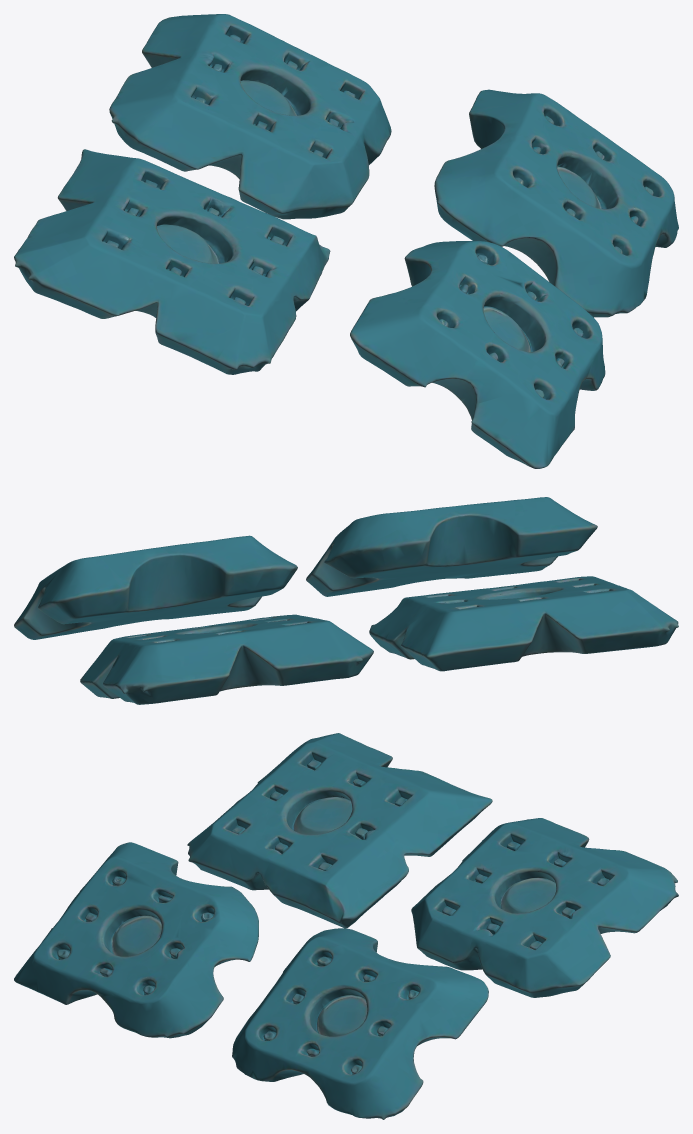
Rendered from silicon-application-set-4pcs.glb.
3 renders of one model, top to bottom at view 1: azimuth 30°, elevation 25°; view 2: azimuth 150°, elevation 25°; view 3: azimuth 270°, elevation 25°, orthographic. The views are drawn at different scales.
Visible parts, largest first — view 1: tripo_node_544a65fe-3bb1-4838-b109-cf65ea4a4ed6; view 2: tripo_node_544a65fe-3bb1-4838-b109-cf65ea4a4ed6; view 3: tripo_node_544a65fe-3bb1-4838-b109-cf65ea4a4ed6.
Boxes of the visible parts, x1,y1,x2,y2 form: tripo_node_544a65fe-3bb1-4838-b109-cf65ea4a4ed6: (14,14,678,468); tripo_node_544a65fe-3bb1-4838-b109-cf65ea4a4ed6: (14,497,678,704); tripo_node_544a65fe-3bb1-4838-b109-cf65ea4a4ed6: (14,733,678,1119).
Bounding box in the file's own units: 0.965 × 0.221 × 0.9997.
Materials: 1 (1 with a texture image).
